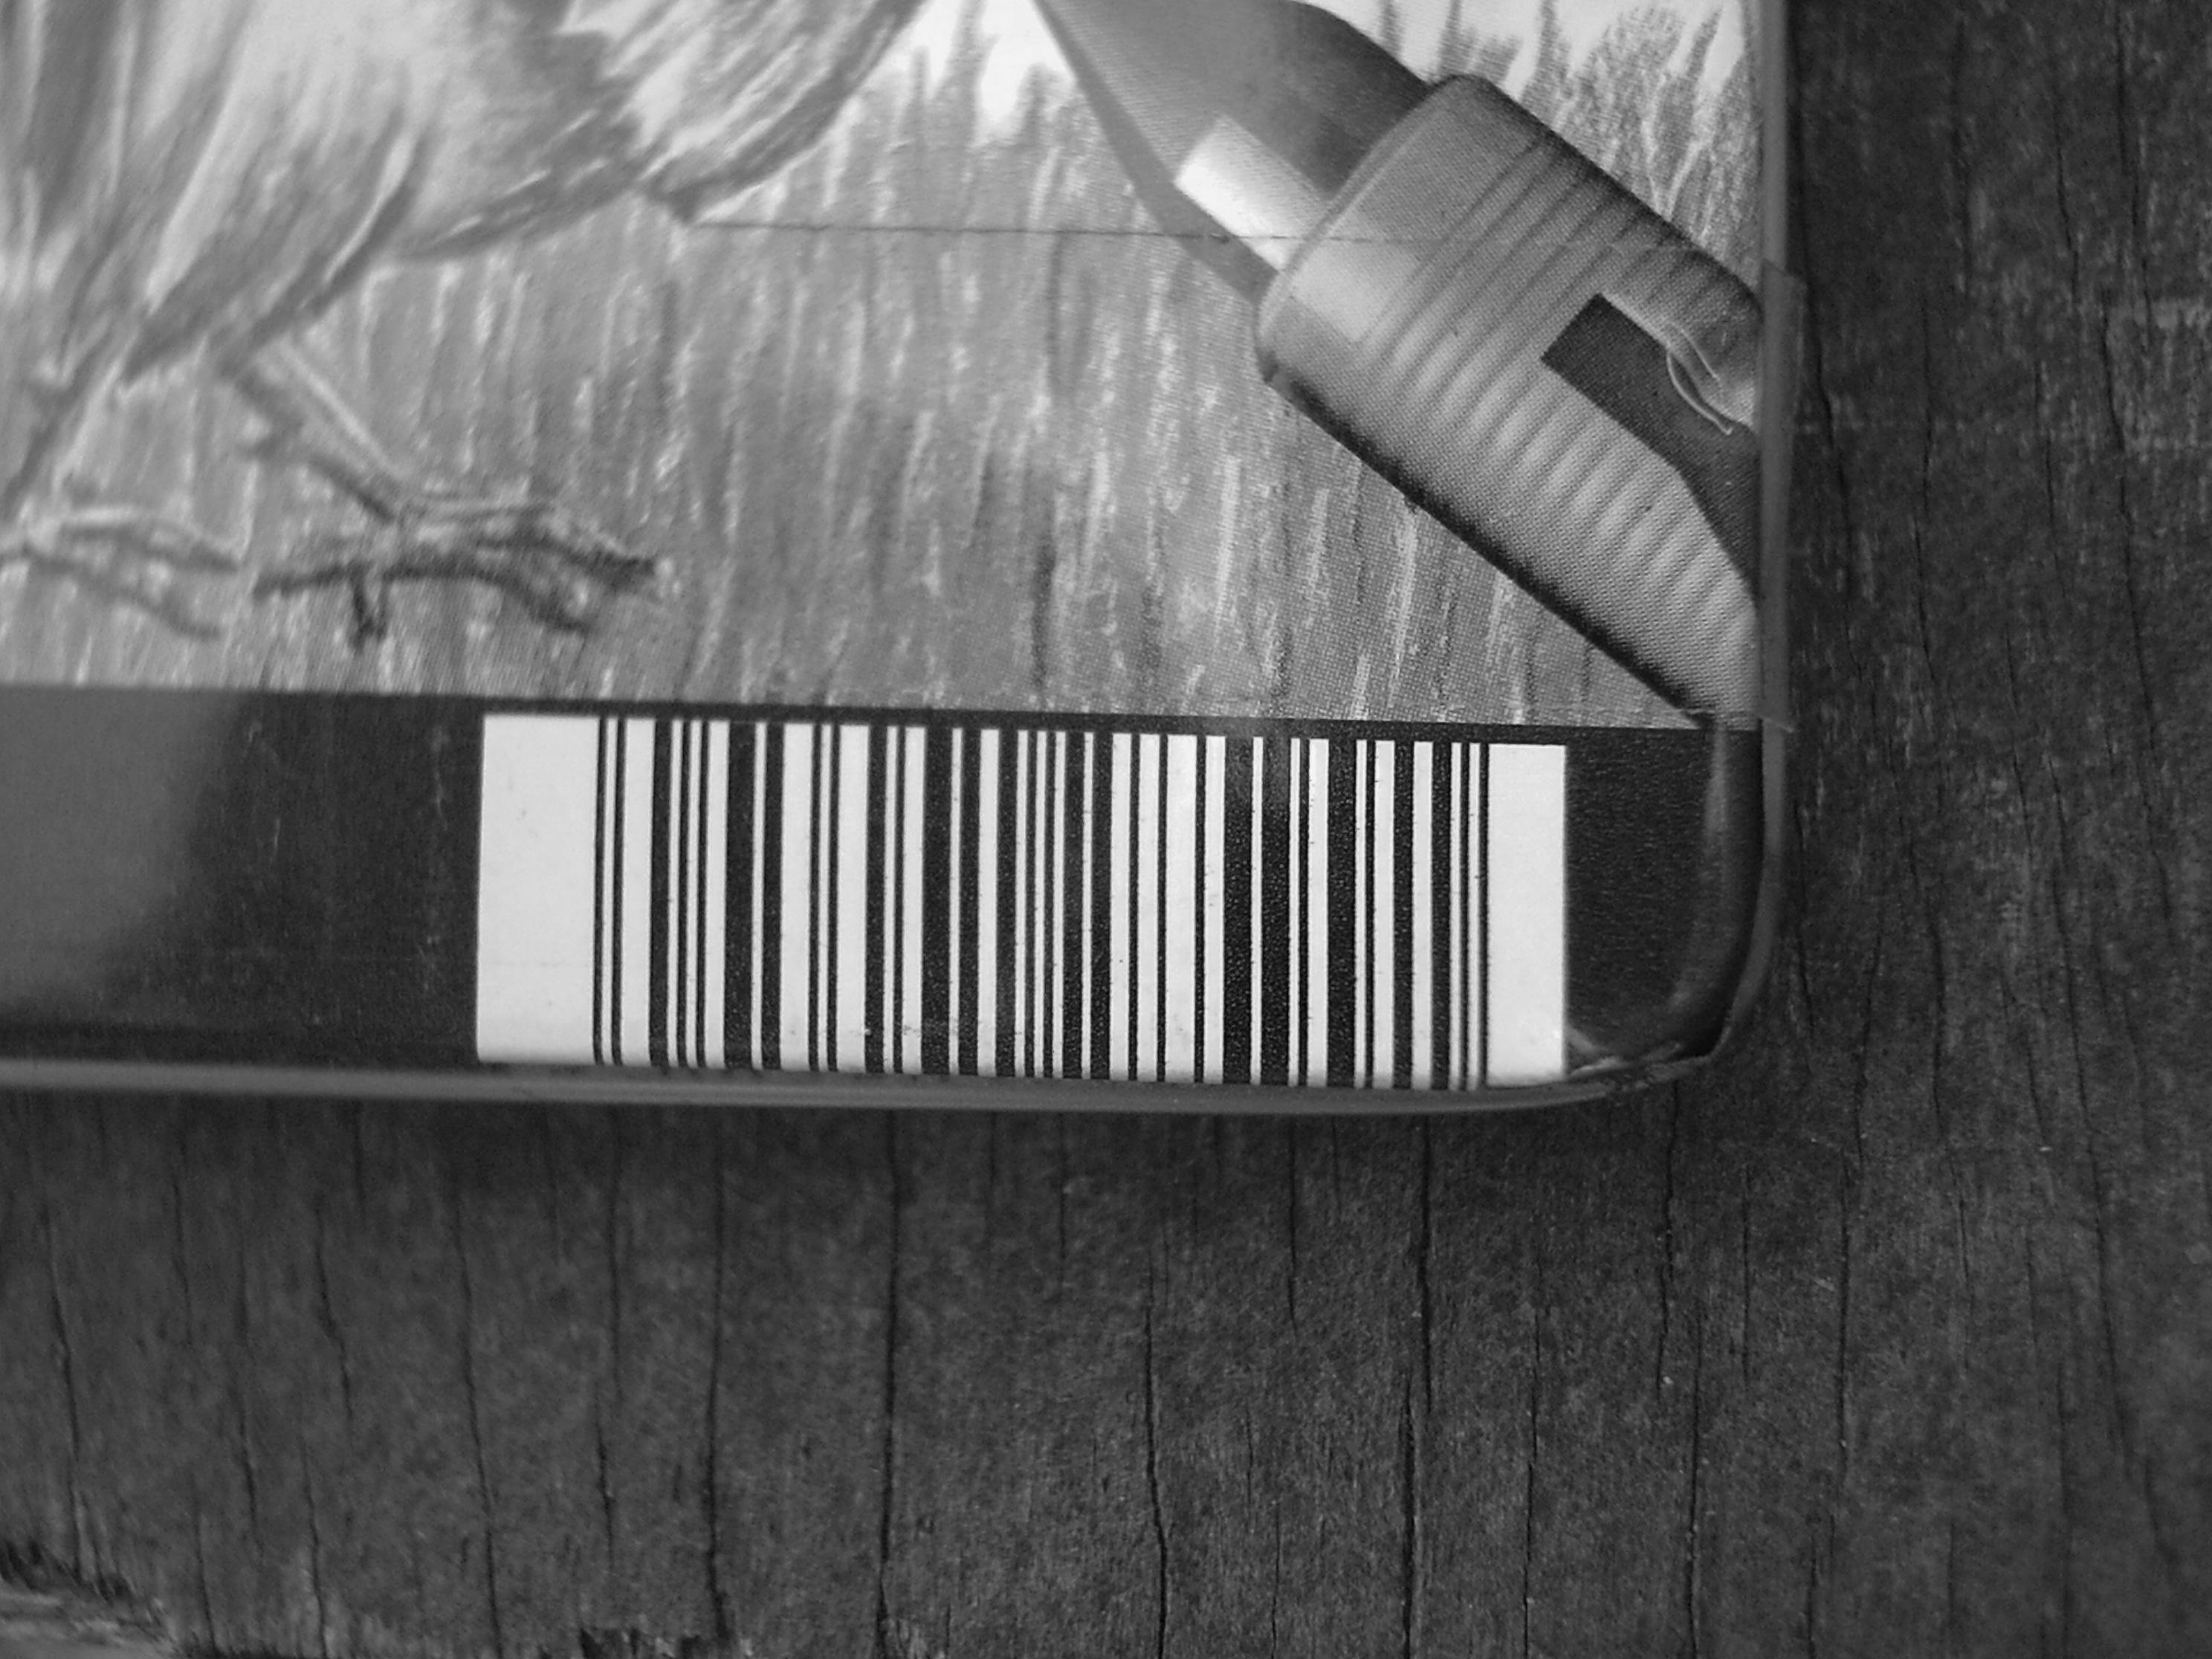Barcode: (580, 697, 1557, 1079)
